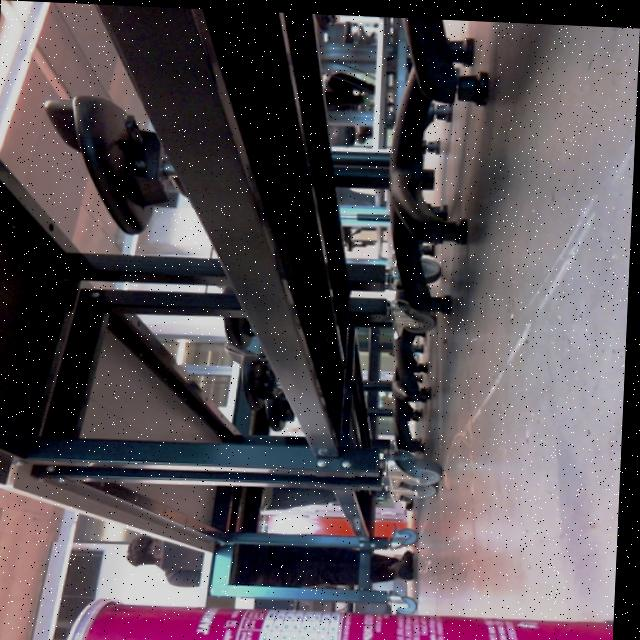redpringles: (39, 579, 620, 640)
